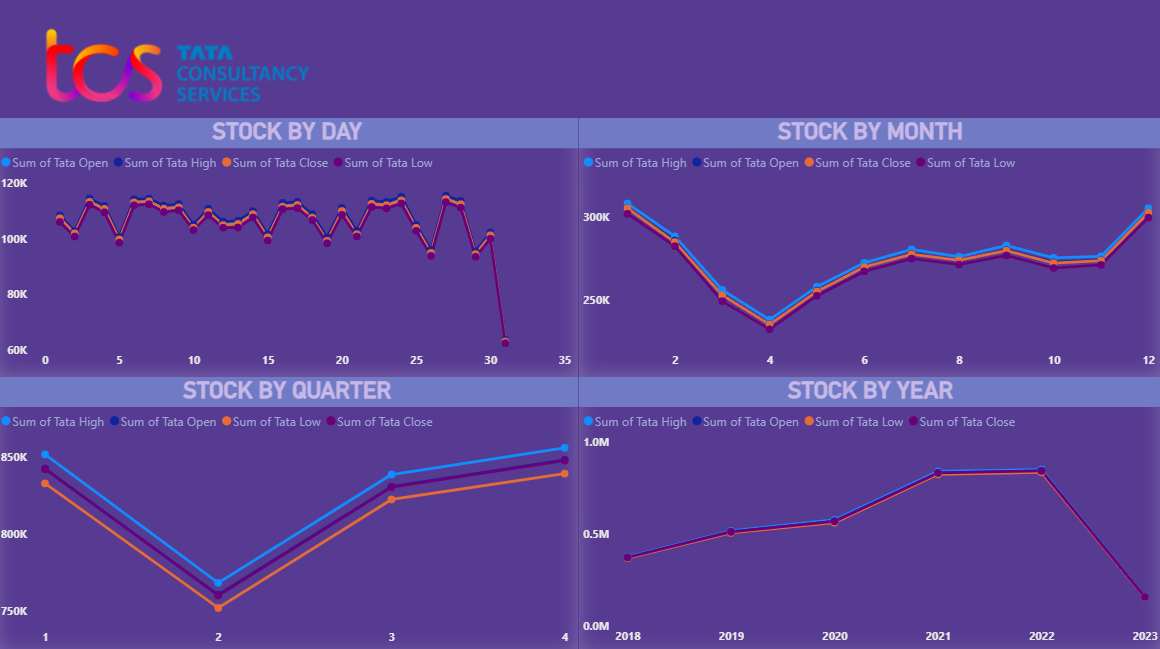

What the dashboard file says about the page in this screenshot:
{"tool":"powerbi","page":{"name":"LINE CHART","canvas":[1280,720],"ordinal":1},"visuals":[{"type":"lineChart","title":" STOCK BY DAY","fields":{"Category":["TCS NS.Day"],"Y":["Sum(TCS NS.Tata Open)","Sum(TCS NS.Tata High)","Sum(TCS NS.Tata Close)","Sum(TCS NS.Tata Low)"]},"box":[0,133.1,639.5,284],"z":0},{"type":"lineChart","title":" STOCK BY MONTH","fields":{"Category":["TCS NS.Month"],"Y":["Sum(TCS NS.Tata High)","Sum(TCS NS.Tata Open)","Sum(TCS NS.Tata Close)","Sum(TCS NS.Tata Low)"]},"box":[639.5,133.1,640.8,284],"z":1},{"type":"lineChart","title":"STOCK BY QUARTER","fields":{"Category":["TCS NS.Quarter"],"Y":["Sum(TCS NS.Tata High)","Sum(TCS NS.Tata Open)","Sum(TCS NS.Tata Low)","Sum(TCS NS.Tata Close)"]},"box":[0,417.2,639.5,303.3],"z":2},{"type":"image","box":[0,0,399.3,150.9],"z":3},{"type":"lineChart","title":"STOCK BY YEAR","fields":{"Category":["TCS NS.Year"],"Y":["Sum(TCS NS.Tata High)","Sum(TCS NS.Tata Open)","Sum(TCS NS.Tata Low)","Sum(TCS NS.Tata Close)"]},"box":[639,417,641,303],"z":4}]}

Visuals, with their boxes in screenshot pixels (x1, y1, x2, y2), scaled from the page's 1280x720 canvas onto the 1160x649 screenshot:
" STOCK BY DAY" lineChart: (0, 120, 580, 376)
" STOCK BY MONTH" lineChart: (580, 120, 1159, 376)
"STOCK BY QUARTER" lineChart: (0, 376, 580, 648)
image: (0, 0, 362, 136)
"STOCK BY YEAR" lineChart: (579, 376, 1159, 648)
